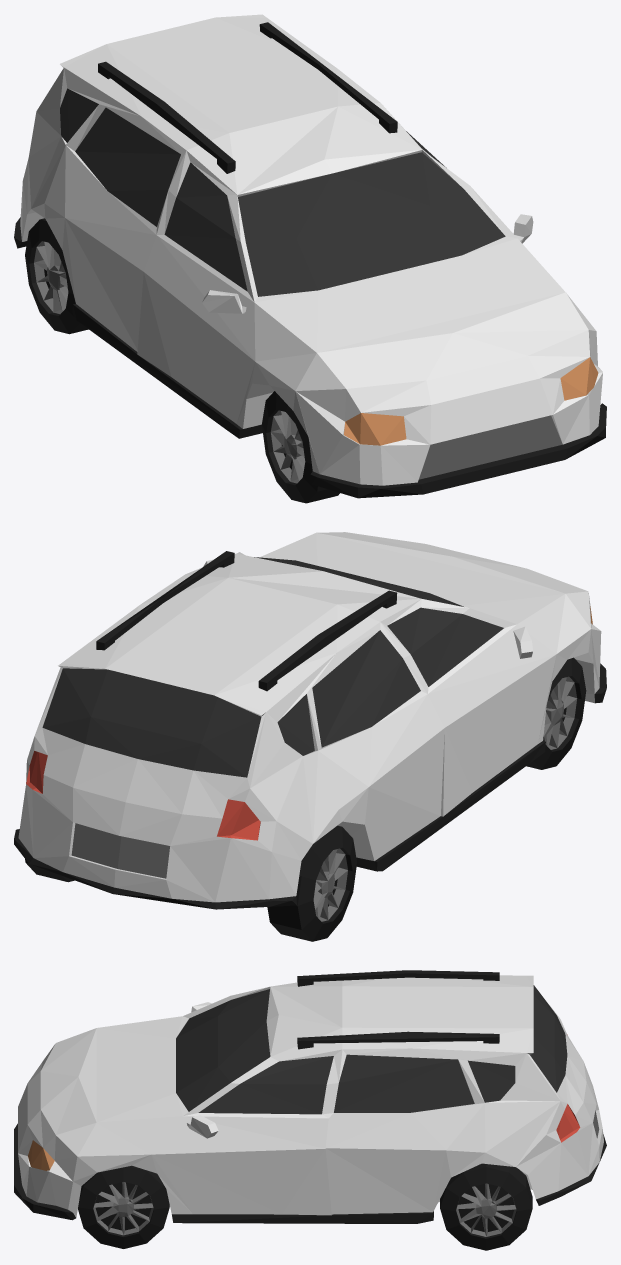
File: suv-neutral.glb
3 renders of one model, top to bottom at view 1: azimuth 30°, elevation 25°; view 2: azimuth 150°, elevation 25°; view 3: azimuth 270°, elevation 25°, orthographic. The views are drawn at different scales.
Visible parts, largest first — view 1: SUV_Cube; view 2: SUV_Cube; view 3: SUV_Cube.
Boxes of the visible parts, x1,y1,x2,y2 form: SUV_Cube: (14, 14, 606, 503); SUV_Cube: (14, 532, 606, 941); SUV_Cube: (14, 970, 606, 1250).
Bounding box in the file's own units: 2.11 × 1.53 × 4.2.
Materials: 1 (1 with a texture image).
